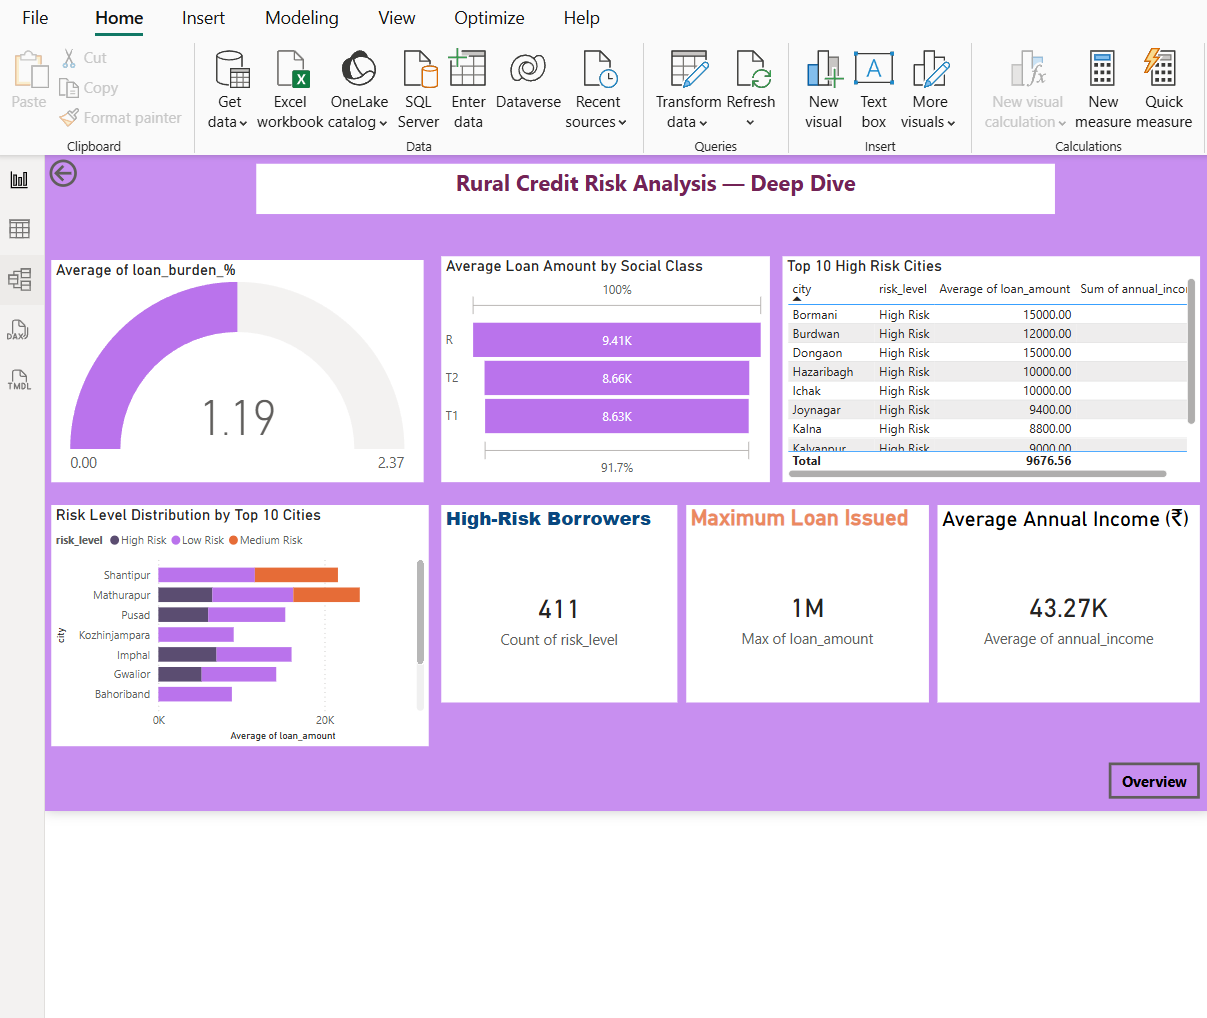

The page's visual inventory and layout, read from the dashboard file:
{"tool":"powerbi","page":{"name":" Deep Analysis","canvas":[1280,720],"ordinal":1},"visuals":[{"type":"gauge","fields":{"Y":["Avg(cleaned_loan_data.loan_burden_%)"]},"box":[6.9,115.3,408.9,244.3],"z":0},{"type":"funnel","title":"Average Loan Amount by Social Class","fields":{"Y":["Avg(cleaned_loan_data.loan_amount)"],"Category":["cleaned_loan_data.type_of_house"]},"box":[435,111.1,360.9,248.4],"z":1000},{"type":"barChart","title":"Risk Level Distribution by Top 10 Cities","fields":{"Category":["cleaned_loan_data.city"],"Y":["Avg(cleaned_loan_data.loan_amount)"],"Series":["cleaned_loan_data.risk_level"]},"box":[6.9,384.2,414.4,264.8],"z":2000},{"type":"tableEx","title":"Top 10 High Risk Cities ","fields":{"Values":["cleaned_loan_data.city","cleaned_loan_data.risk_level","Avg(cleaned_loan_data.loan_amount)","Sum(cleaned_loan_data.annual_income)"]},"box":[809.6,111.1,458.3,248.4],"z":3000},{"type":"actionButton","box":[0,0,100,40],"z":4000},{"type":"textbox","box":[231.9,9.6,876.8,54.9],"z":5000},{"type":"card","title":"High-Risk Borrowers","fields":{"Values":["CountNonNull(cleaned_loan_data.risk_level)"]},"box":[435,384.2,259.3,216.8],"z":6000},{"type":"card","title":"Maximum Loan Issued","fields":{"Values":["Max(cleaned_loan_data.loan_amount)"]},"box":[703.9,384.2,266.2,216.8],"z":7000},{"type":"card","title":"Average Annual Income (₹)","fields":{"Values":["Avg(cleaned_loan_data.annual_income)"]},"box":[979.8,384.2,288.2,216.8],"z":8000},{"type":"actionButton","box":[1167.8,666.9,100.2,39.8],"z":9000}]}

Visuals, with their boxes in screenshot pixels (x1, y1, x2, y2):
gauge - Avg(cleaned_loan_data.loan_burden_%): select_region(41, 255, 421, 482)
"Average Loan Amount by Social Class" funnel: select_region(439, 251, 775, 482)
"Risk Level Distribution by Top 10 Cities" barChart: select_region(41, 505, 426, 751)
"Top 10 High Risk Cities " tableEx: select_region(787, 251, 1206, 482)
actionButton: select_region(35, 148, 128, 185)
textbox: select_region(250, 157, 1066, 208)
"High-Risk Borrowers" card: select_region(439, 505, 680, 707)
"Maximum Loan Issued" card: select_region(689, 505, 937, 707)
"Average Annual Income (₹)" card: select_region(946, 505, 1206, 707)
actionButton: select_region(1121, 768, 1206, 805)
